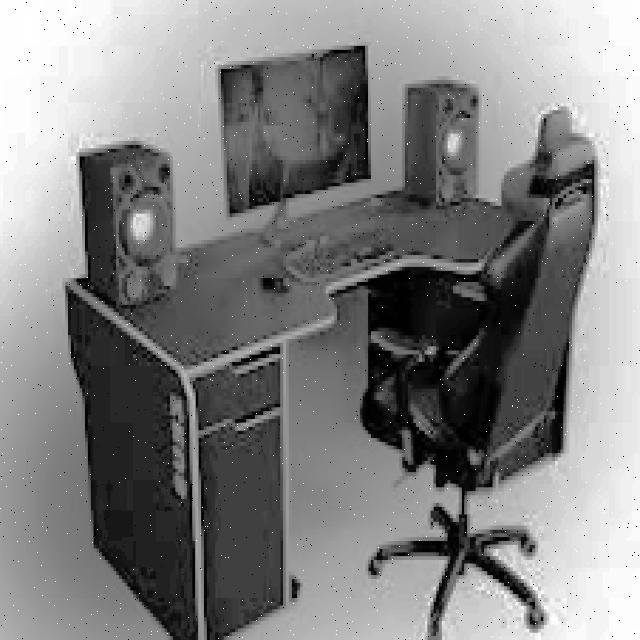book: (362, 103, 600, 640)
table: (65, 183, 521, 640)
